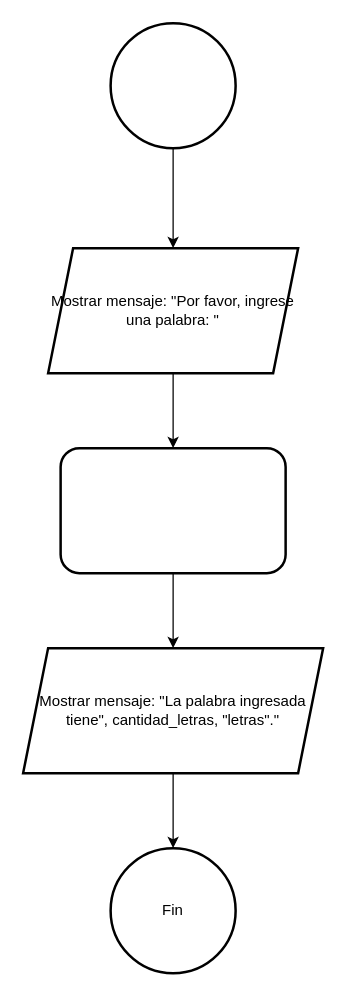
This 345x995 diagram has some shape labels left out. Each missing label, with the centre of its shape:
Definir la variable cantidad_letras y asignarle la longitud de palabra asignada.: (172,510)
Inicio: (172,85)
